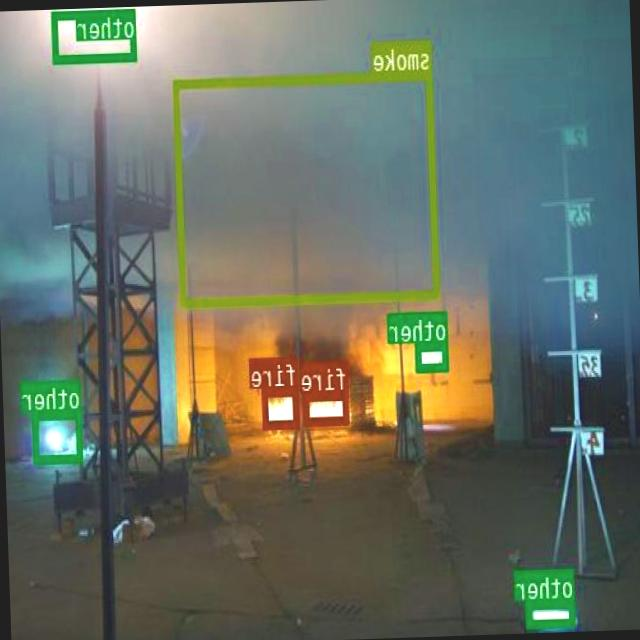fire: (304, 391, 350, 424), (264, 387, 300, 428)
smoke: (174, 68, 440, 306)
